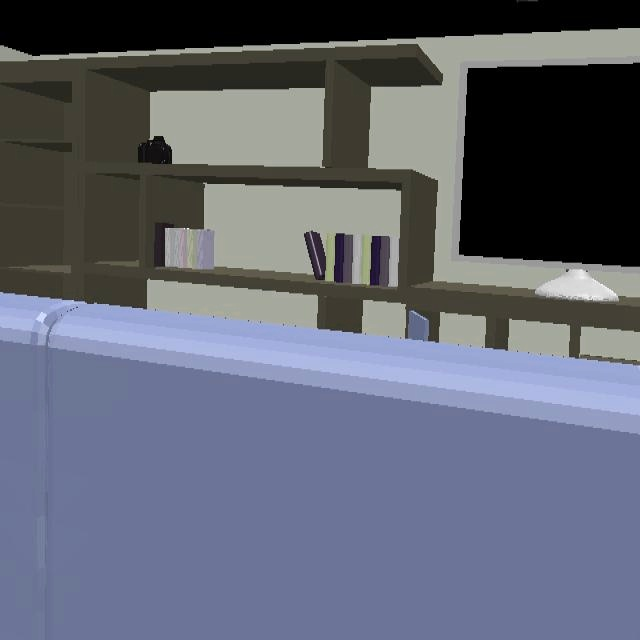bookshelf: (0, 44, 640, 356)
monitor: (453, 56, 640, 268)
